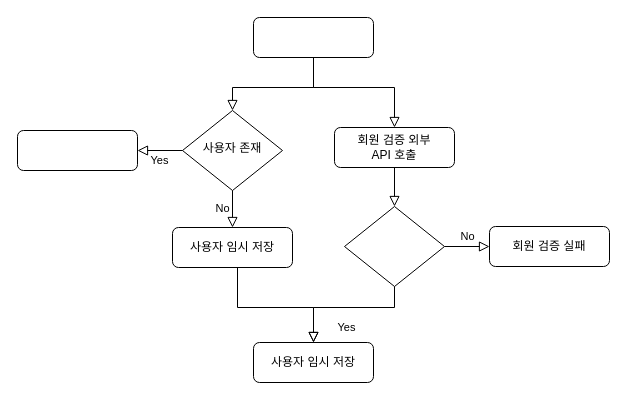
This 627x400 diagram has some shape labels left out. Here are the shapes that lost their labels. From the top down, the centre of each, then its label:
At (313,37): "회원가입 시작".
At (77,150): "이미 존재한 사용자".
At (394,246): "회원 검증 결과".
